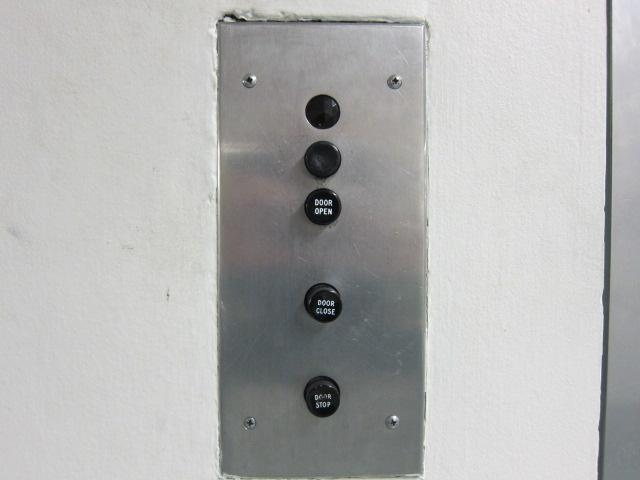empty: (304, 141, 342, 179), (304, 94, 341, 129)
text_close: (303, 283, 342, 322)
text_open: (305, 189, 342, 225)
text_stop: (303, 377, 341, 418)
